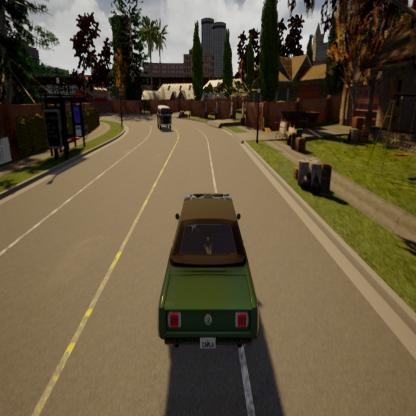Cars: (153, 172, 276, 379), (152, 94, 178, 152)
